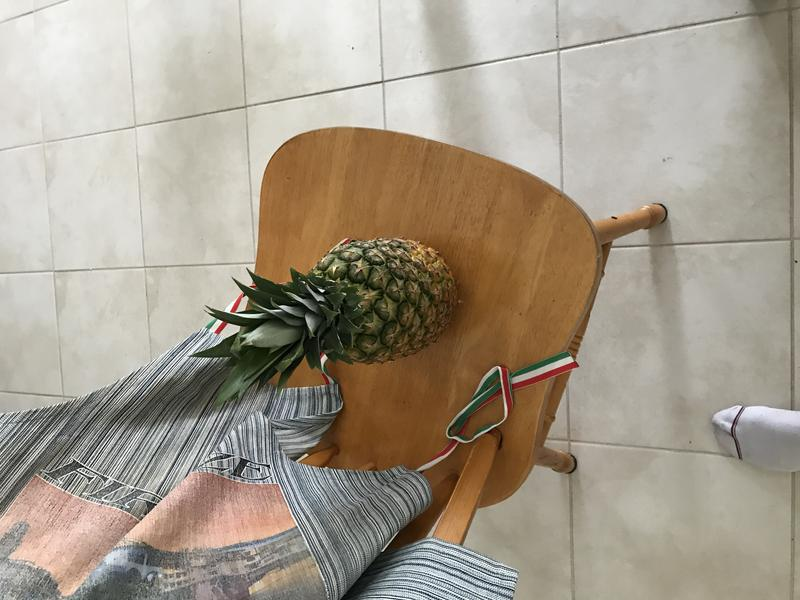pineapple: (208, 234, 464, 386)
